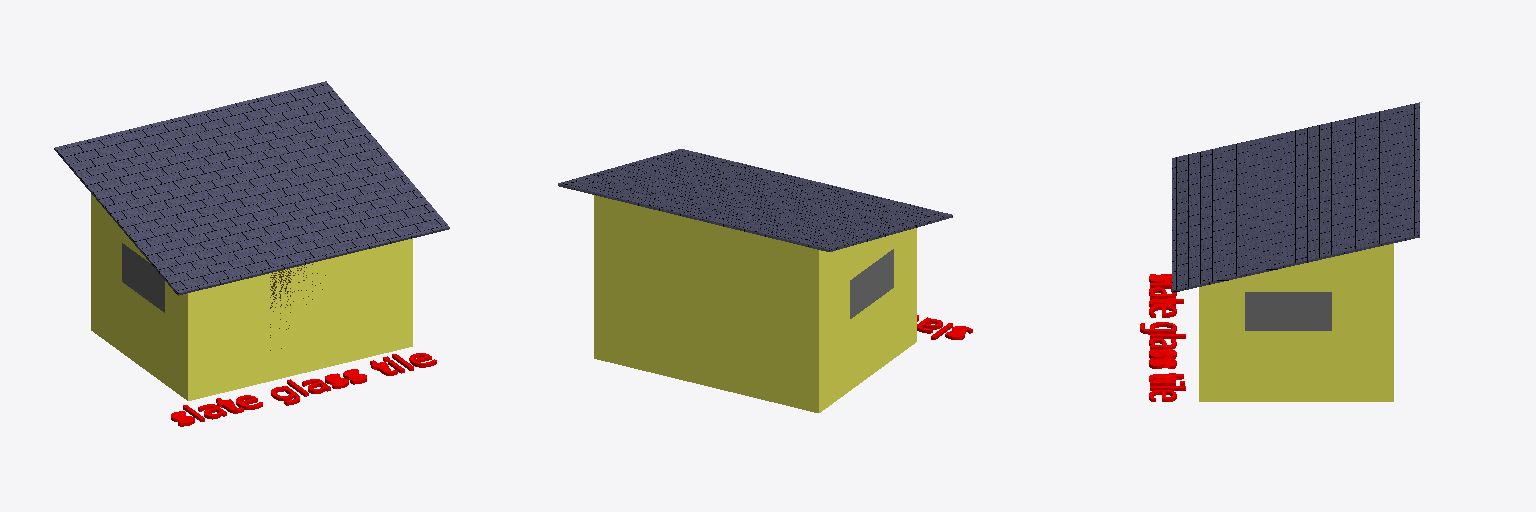
3 renders of one model, left to right at view 1: azimuth 30°, elevation 25°; view 2: azimuth 150°, elevation 25°; view 3: azimuth 270°, elevation 25°, orthographic.
Visible parts, largest first — view 1: Mesh16 shed1 Component1 Tesla_Solar_Roof_Tile_Props1 Model; view 2: Mesh16 shed1 Component1 Tesla_Solar_Roof_Tile_Props1 Model; view 3: Mesh16 shed1 Component1 Tesla_Solar_Roof_Tile_Props1 Model.
Part boxes in pixels (left/top/right/bottom): Mesh16 shed1 Component1 Tesla_Solar_Roof_Tile_Props1 Model: left=54, top=81, right=449, bottom=400; Mesh16 shed1 Component1 Tesla_Solar_Roof_Tile_Props1 Model: left=558, top=149, right=952, bottom=412; Mesh16 shed1 Component1 Tesla_Solar_Roof_Tile_Props1 Model: left=1172, top=102, right=1419, bottom=401.
Bounding box in the file's own units: 4819 × 2935 × 4176.
5 materials, 1 textured.